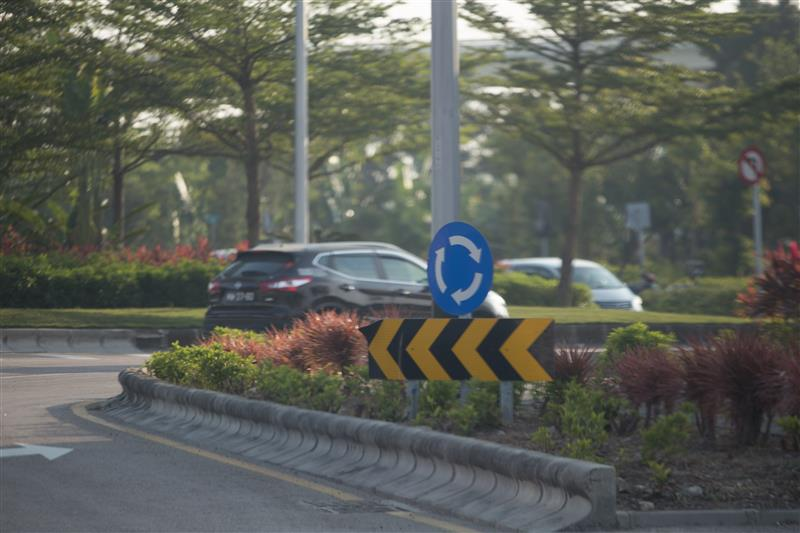roundabout: (427, 223, 493, 315)
